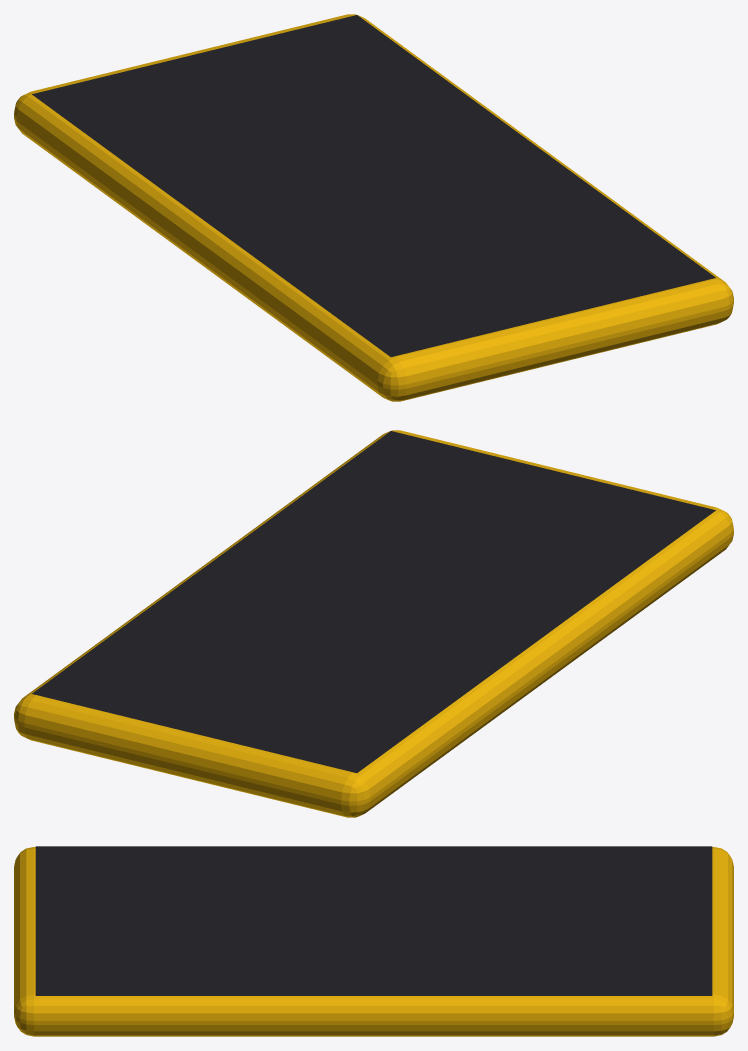
The model's file is motorola-moto-g-model-133-budget-2023.glb.
3 renders of one model, top to bottom at view 1: azimuth 30°, elevation 25°; view 2: azimuth 150°, elevation 25°; view 3: azimuth 270°, elevation 25°, orthographic. The views are drawn at different scales.
Parts seen in each view (by area): view 1: Phone_Screen, Phone_Body; view 2: Phone_Screen, Phone_Body; view 3: Phone_Screen, Phone_Body.
Part boxes in pixels (x1,y1,x2,y2): Phone_Screen: (32,15,715,356); Phone_Body: (14,14,733,401); Phone_Screen: (32,431,715,772); Phone_Body: (14,430,733,817); Phone_Screen: (35,846,712,995); Phone_Body: (14,847,733,1036).
Bounding box in the file's own units: 0.0794 × 0.0093 × 0.1486.
